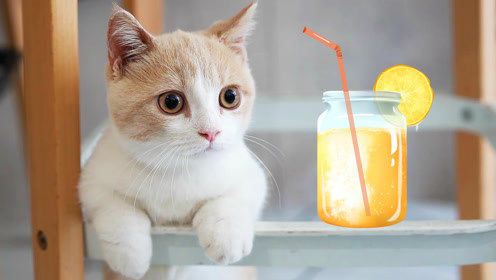cat: (68, 1, 279, 273)
cup: (296, 24, 441, 235)
